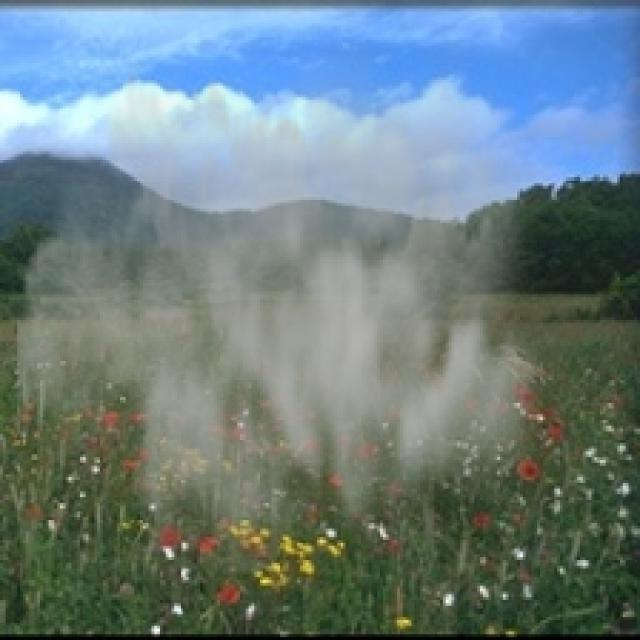Smoke: (17, 17, 574, 574)
